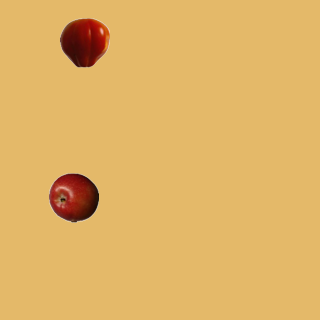Apple Braeburn: (48, 172, 98, 222)
Tomato 1: (59, 17, 109, 67)
